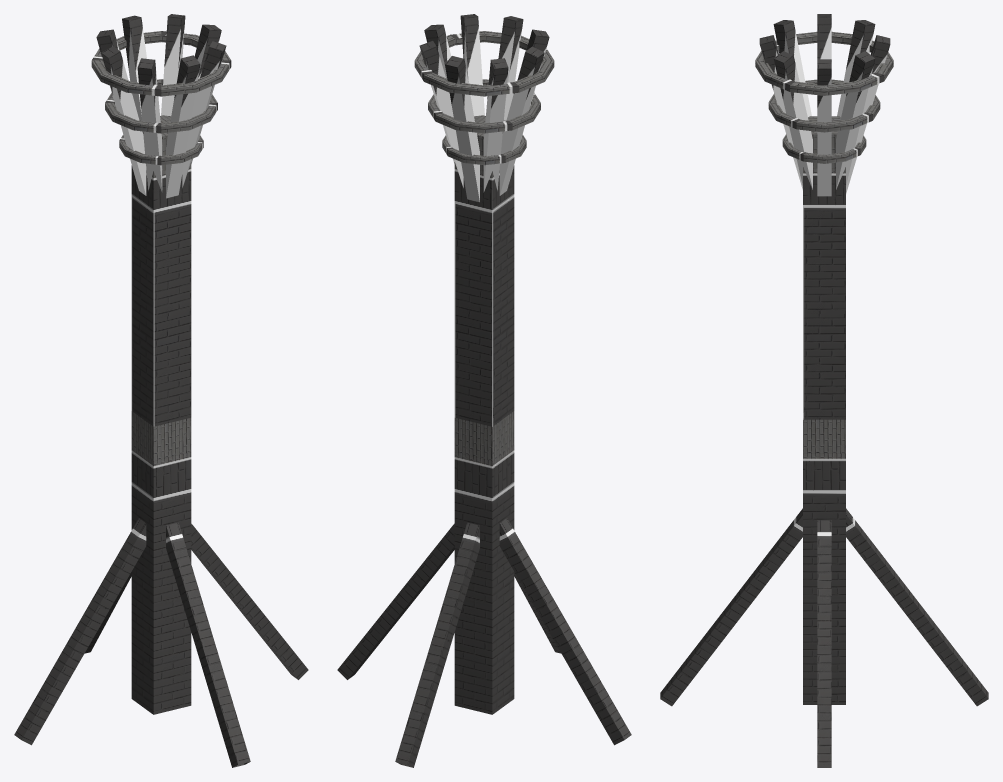
3 views of the same model, side by side, from view 1: azimuth 30°, elevation 25°; view 2: azimuth 150°, elevation 25°; view 3: azimuth 270°, elevation 25° (orthographic).
Visible parts, largest first — view 1: Base; view 2: Base; view 3: Base.
Boxes of the visible parts, left/top/right/bottom form: Base: left=14, top=14, right=308, bottom=767; Base: left=337, top=14, right=631, bottom=767; Base: left=660, top=14, right=988, bottom=767.
Size of the model in its own units: 22.81 by 50.97 by 22.81.
